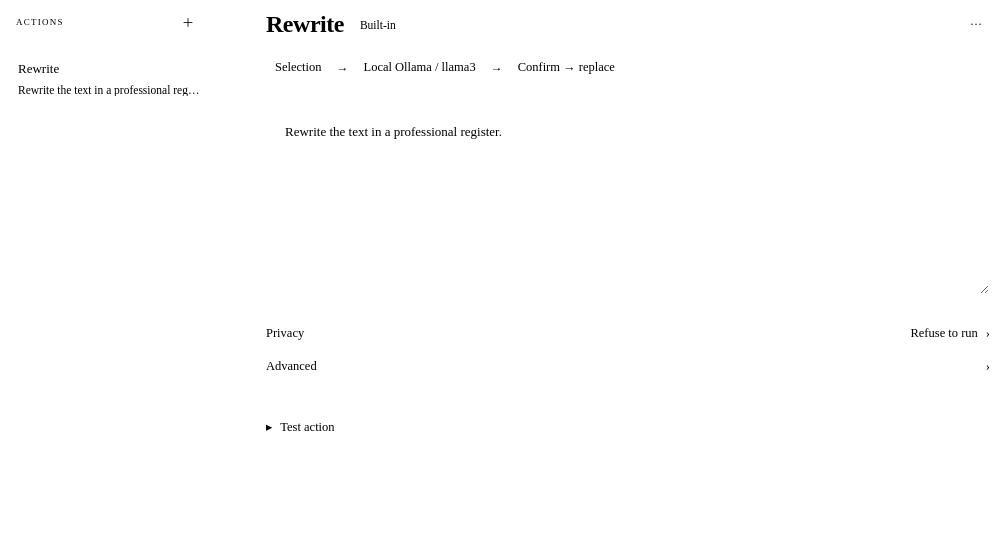
Test: ActionsPage — the studio › keeps temperature out of sight until Advanced is opened
The width and height of the screenshot is (1007, 553).
Click the button "Advanced ›".
click(291, 366)  # box [266,350,990,383]
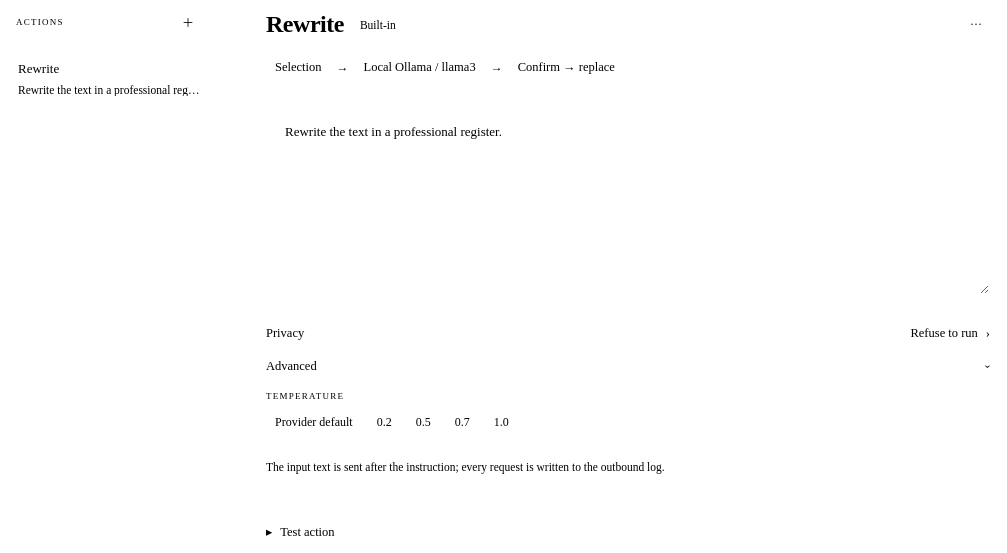
Check: the button "0.7" is shown, box [446,409,479,435]
